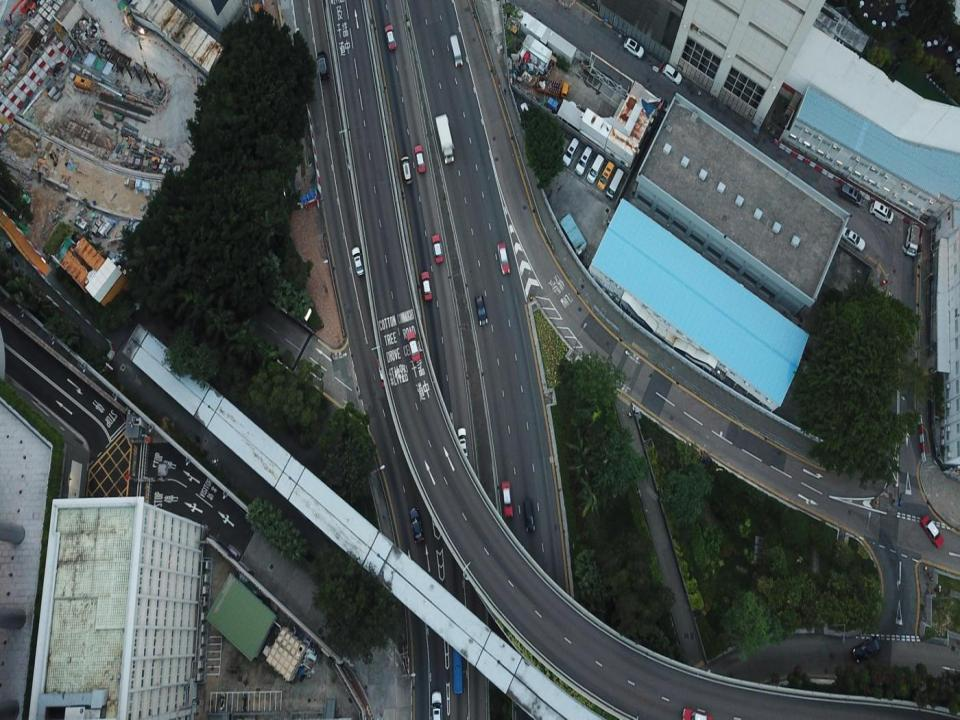bus: (451, 630, 465, 697)
car: (920, 514, 946, 549), (850, 640, 881, 662), (409, 508, 425, 546), (843, 224, 867, 249), (499, 478, 513, 516), (496, 240, 511, 275), (376, 356, 391, 390), (623, 36, 646, 58), (475, 293, 488, 327), (457, 427, 468, 464), (679, 706, 710, 719), (663, 63, 682, 84), (408, 330, 420, 363), (414, 144, 427, 174), (351, 248, 364, 278), (399, 154, 412, 184), (433, 231, 444, 266), (525, 500, 536, 535), (420, 270, 432, 301), (385, 22, 396, 52), (431, 693, 442, 719)
truck: (436, 112, 455, 165)
van: (605, 164, 622, 198), (598, 159, 616, 191), (839, 180, 862, 204), (871, 200, 895, 223), (904, 223, 920, 257), (574, 147, 592, 177), (449, 34, 464, 69), (316, 48, 331, 82), (586, 154, 604, 181), (562, 136, 578, 166)
